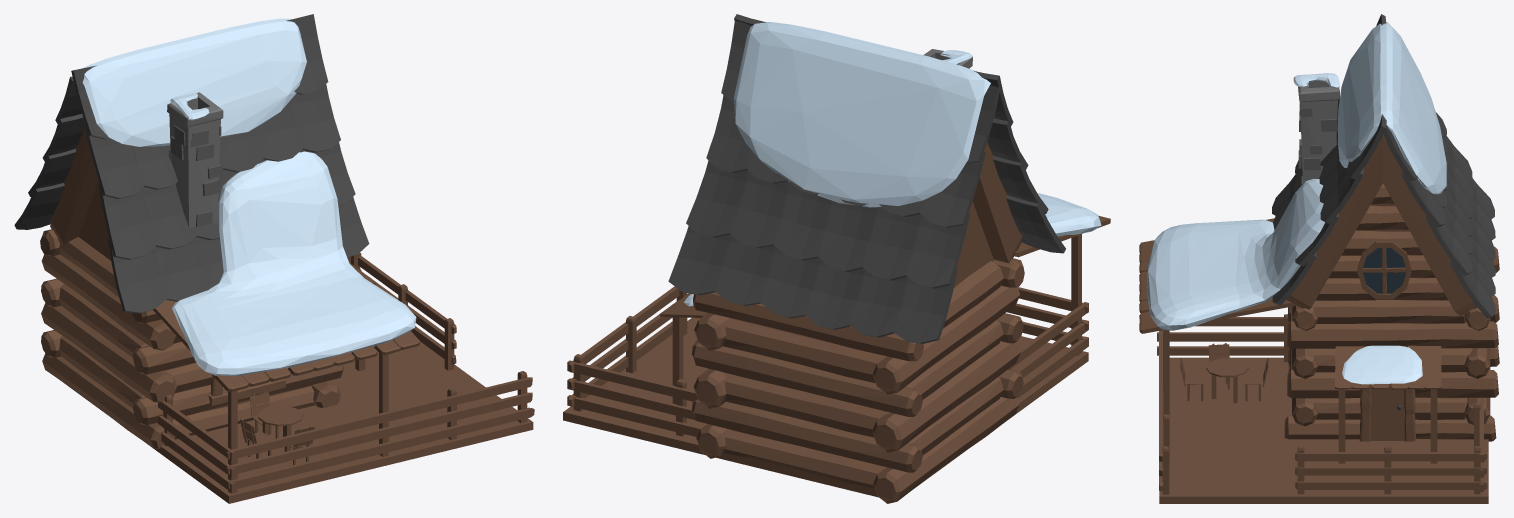
The model's file is house_type_3.glb.
The picture shows the model from 3 angles, left to right: view 1: azimuth 30°, elevation 25°; view 2: azimuth 150°, elevation 25°; view 3: azimuth 270°, elevation 25°; orthographic projection. The views are drawn at different scales.
Visible parts, largest first — view 1: house_type_3; view 2: house_type_3; view 3: house_type_3.
Boxes of the visible parts, x1,y1,x2,y2 form: house_type_3: (14,14,534,503); house_type_3: (563,14,1110,503); house_type_3: (1139,14,1499,503).
Bounding box in the file's own units: 4.53 × 4.5 × 4.35.
